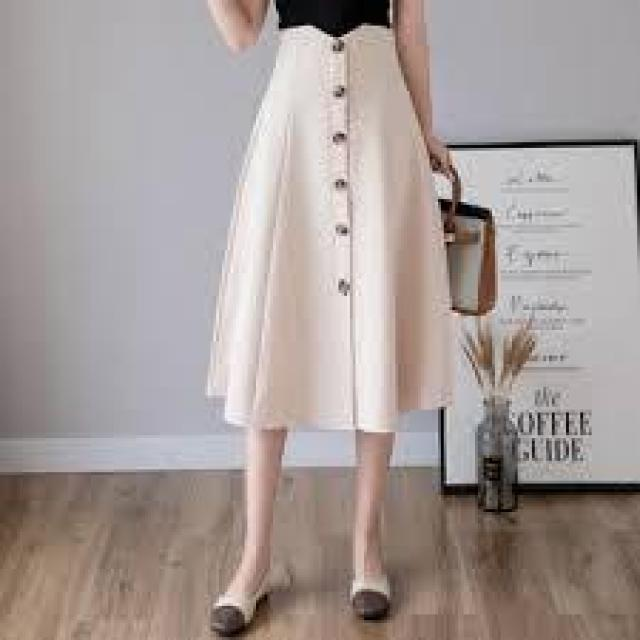skirt: (195, 21, 482, 445)
